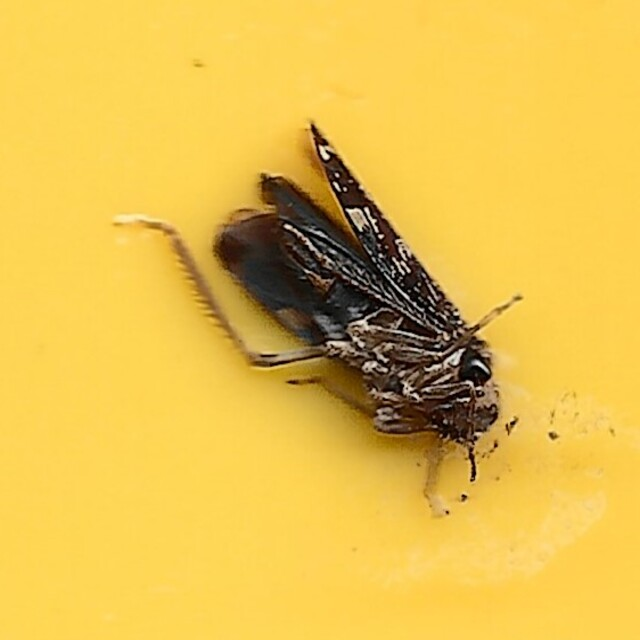Hemiptera: (114, 118, 526, 522)
